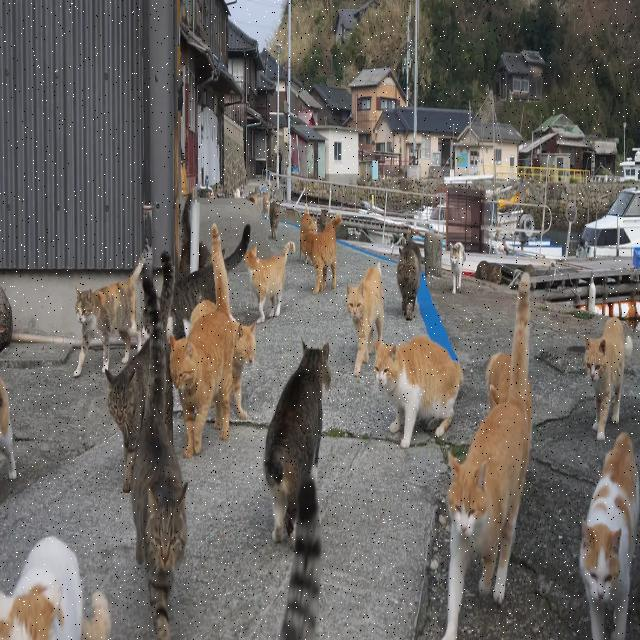cat: (445, 273, 530, 640), (131, 264, 188, 639), (170, 224, 236, 458), (264, 341, 330, 543), (580, 433, 639, 640), (0, 537, 108, 640), (74, 252, 146, 376), (105, 339, 150, 492), (280, 478, 321, 639), (245, 243, 295, 321), (165, 264, 216, 339), (232, 318, 256, 419), (0, 379, 16, 479), (224, 224, 250, 271), (159, 252, 174, 328), (0, 287, 12, 350), (190, 299, 216, 328), (165, 351, 172, 439), (141, 311, 149, 343)
